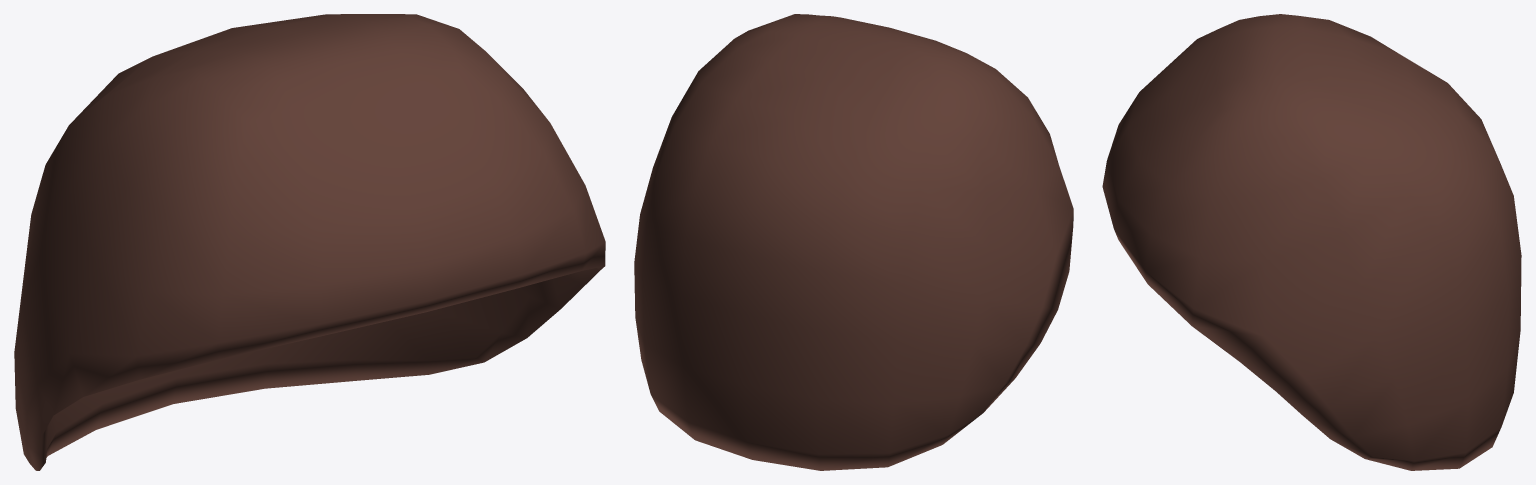
Rendered from leather_cap.gltf.
3 views of the same model, side by side, from view 1: azimuth 30°, elevation 25°; view 2: azimuth 150°, elevation 25°; view 3: azimuth 270°, elevation 25° (orthographic). The views are drawn at different scales.
Visible parts, largest first — view 1: Cube.001; view 2: Cube.001; view 3: Cube.001.
Part boxes in pixels (left/top/right/bottom): Cube.001: left=14, top=14, right=605, bottom=470; Cube.001: left=634, top=14, right=1073, bottom=470; Cube.001: left=1102, top=14, right=1521, bottom=470.
Size of the model in its own units: 0.1802 by 0.1516 by 0.1569.
